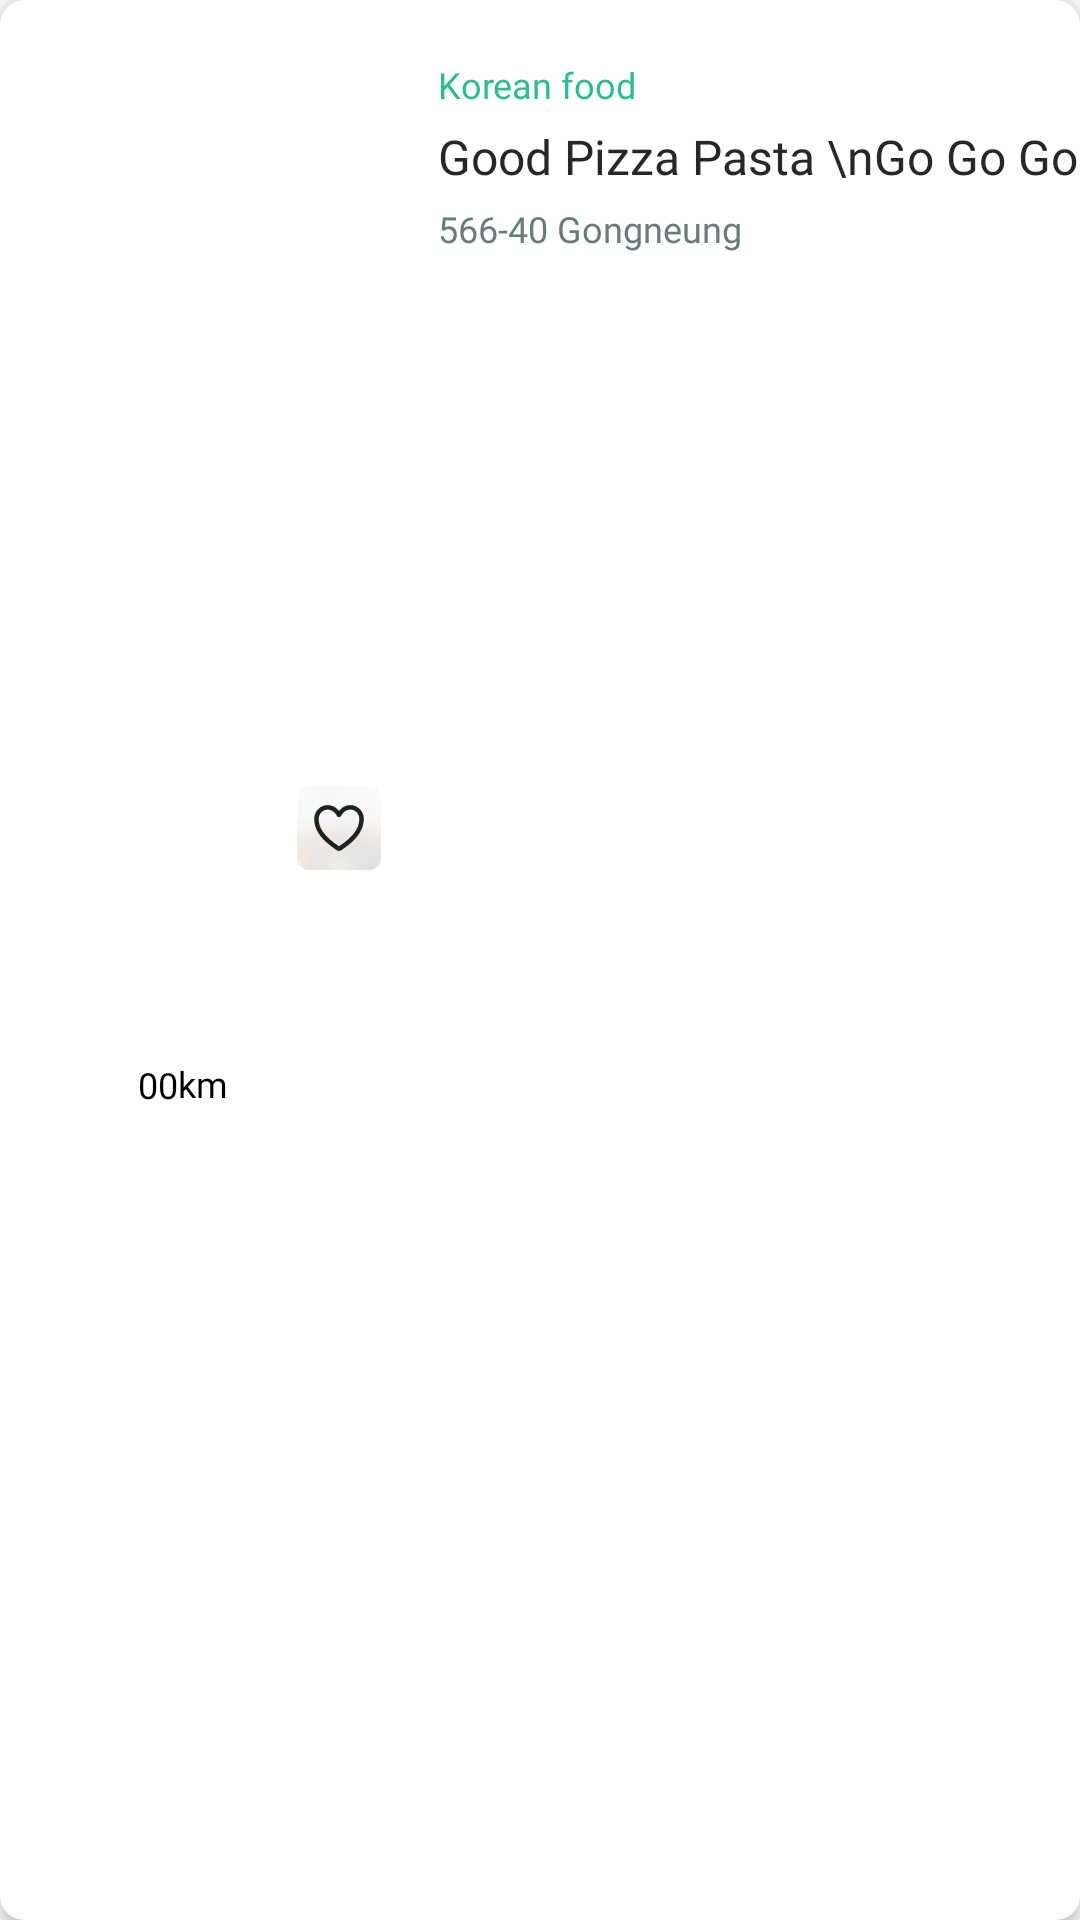

Icons on this 1080 x 1920 Android screen, each with the point to tap as (x,y):
heart: (339,837)
